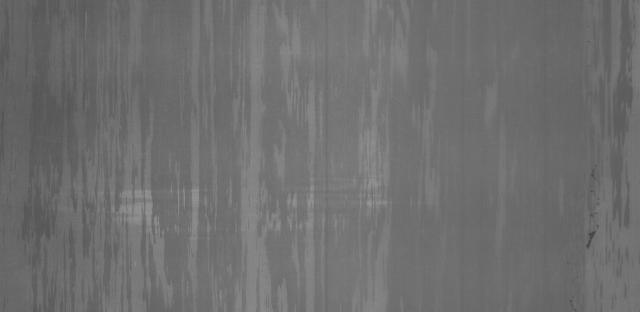inclusion: (586, 168, 605, 258)
water_spot: (30, 11, 293, 311), (314, 49, 463, 300), (600, 0, 639, 305)
